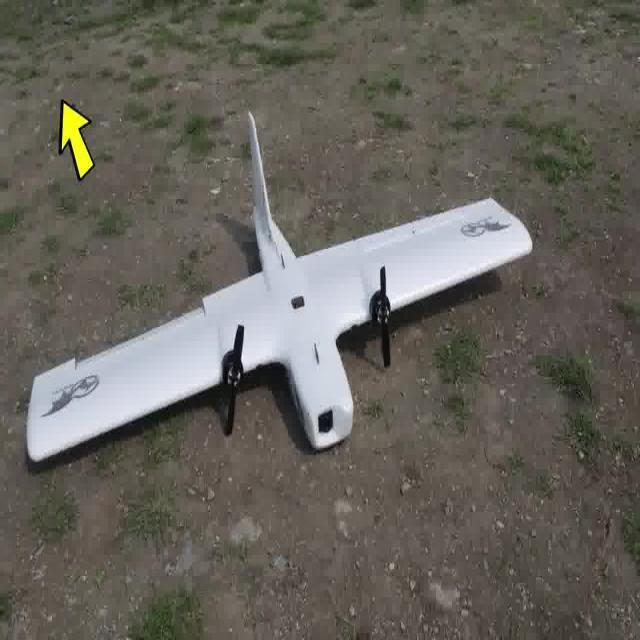iha: (24, 106, 536, 471)
